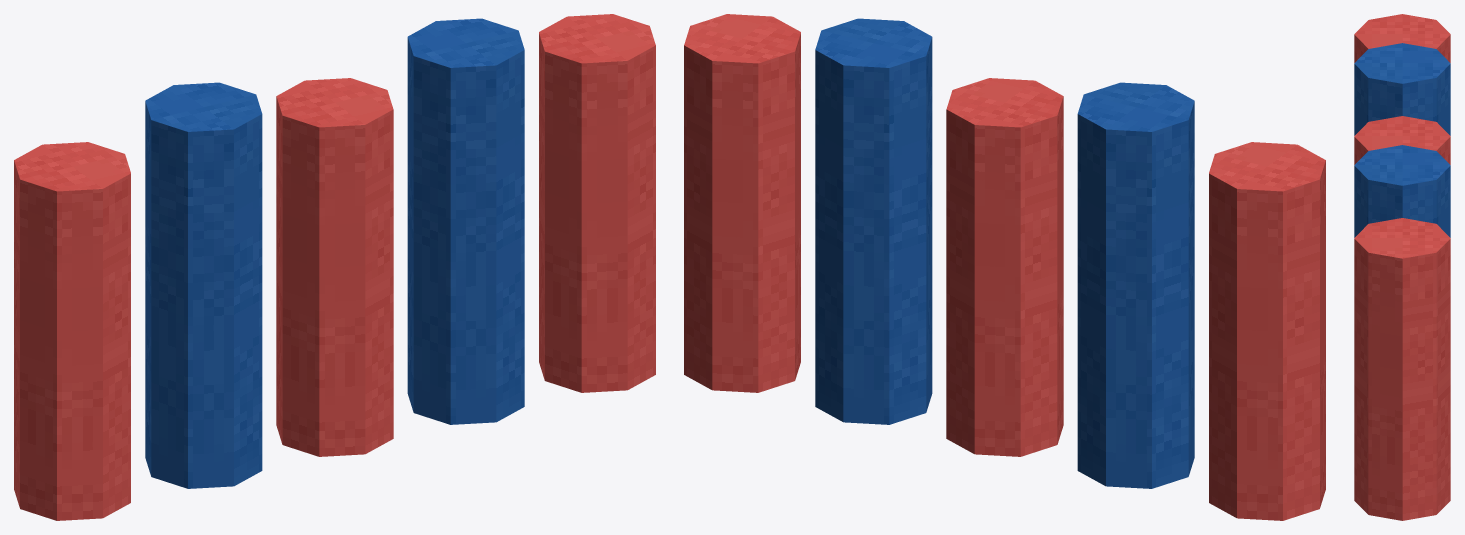
The picture shows the model from 3 angles, left to right: view 1: azimuth 30°, elevation 25°; view 2: azimuth 150°, elevation 25°; view 3: azimuth 270°, elevation 25°; orthographic projection. The views are drawn at different scales.
Visible parts, largest first — view 1: Decor_yoga_mat_rolls; view 2: Decor_yoga_mat_rolls; view 3: Decor_yoga_mat_rolls.
Boxes of the visible parts, left/top/right/bottom form: Decor_yoga_mat_rolls: left=14, top=14, right=655, bottom=520; Decor_yoga_mat_rolls: left=684, top=14, right=1325, bottom=520; Decor_yoga_mat_rolls: left=1354, top=14, right=1450, bottom=520.
Bounding box in the file's own units: 1.2 × 0.65 × 0.2.
Materials: 2 (2 with a texture image).
